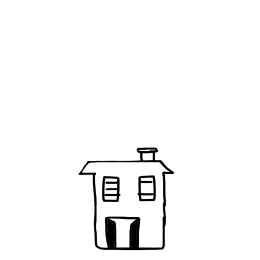bottom_placed_house: (1, 1, 260, 260)
chimney: (137, 143, 164, 170)
closed_window: (100, 173, 124, 204), (136, 173, 160, 202)
door: (101, 211, 146, 254)
single_line_roof: (62, 156, 189, 175)
small_house: (7, 6, 256, 260)
wall: (85, 173, 172, 253)
